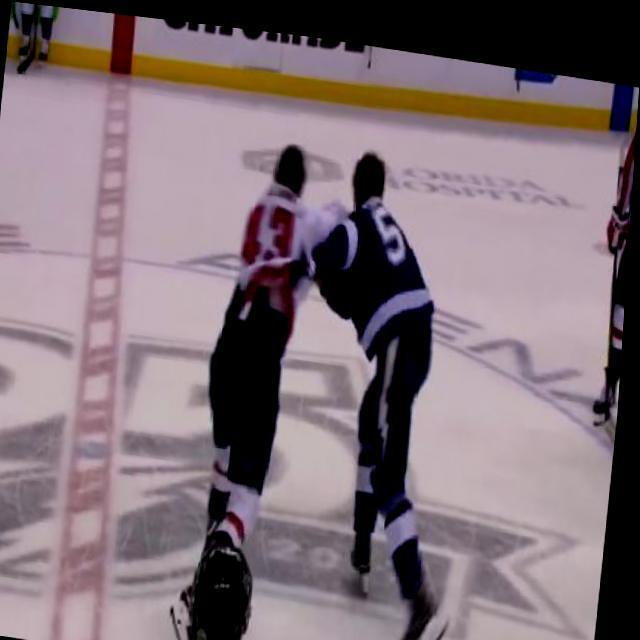fight: (192, 122, 459, 598)
